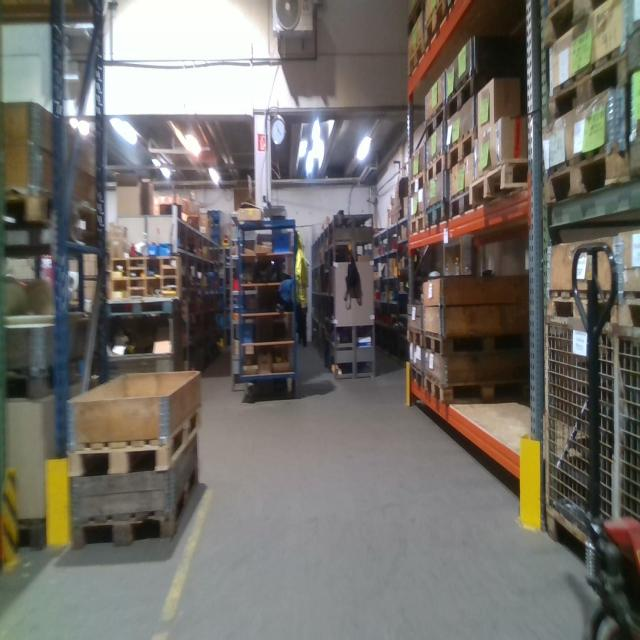pallet: (65, 402, 204, 484), (70, 465, 197, 554), (549, 50, 625, 126), (1, 191, 105, 242), (543, 151, 626, 205), (469, 154, 532, 209), (544, 291, 613, 333), (425, 375, 528, 403), (447, 72, 495, 125), (543, 2, 599, 45), (425, 331, 528, 353), (447, 126, 481, 172), (609, 283, 636, 333), (448, 180, 474, 223), (425, 2, 448, 48), (425, 103, 446, 144), (409, 32, 426, 81), (428, 149, 447, 191), (426, 199, 447, 232), (407, 170, 427, 200), (408, 211, 428, 237), (405, 325, 424, 350), (410, 369, 427, 390), (447, 0, 456, 11)
pallet_truck: (566, 235, 639, 639)
small_load_carrier: (272, 231, 292, 254)
stillage: (537, 306, 613, 570), (612, 319, 640, 551)
